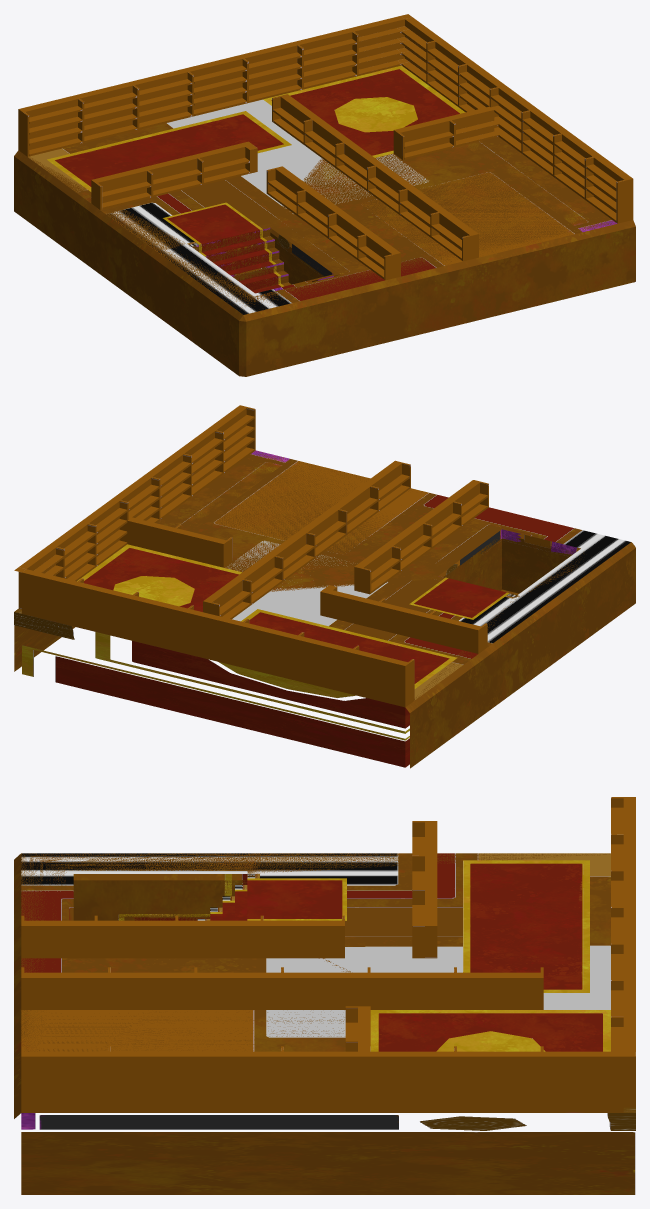
The model's file is lvl_5-cnk_0.obj.
3 views of the same model, one above another, from view 1: azimuth 30°, elevation 25°; view 2: azimuth 150°, elevation 25°; view 3: azimuth 270°, elevation 25° (orthographic). The views are drawn at different scales.
Parts seen in each view (by area): view 1: Cube.085, Cube.084, Cube.086, Cube.087, Plane.035, Cube.090, Plane.036, Cube.089, Plane.037, Cube.091, Cube.092; view 2: Cube.084, Cube.085, Cube.086, Cube.087, Cube.090, Plane.035, Cube.091, Cube.089, Plane.036, Cube.092, Plane.037; view 3: Cube.084, Cube.087, Cube.085, Cube.090, Plane.036, Cube.091, Plane.035, Cube.086, Plane.037, Cube.089, Cube.092.
Boxes of the visible parts, x1,y1,x2,y2 form: Cube.085: (14,123,635,376); Cube.084: (28,99,617,314); Cube.086: (18,16,404,156); Cube.087: (401,17,633,223); Plane.035: (263,65,465,157); Cube.090: (272,94,478,261); Plane.036: (47,111,291,191); Cube.089: (91,141,257,209); Plane.037: (163,202,283,293); Cube.091: (266,166,400,280); Cube.092: (393,106,498,159); Cube.084: (14,450,630,767); Cube.085: (15,451,635,768); Cube.086: (22,569,414,707); Cube.087: (18,405,255,609); Cube.090: (203,460,410,619); Plane.035: (77,544,241,611); Cube.091: (354,480,488,594); Cube.089: (320,585,487,653); Plane.036: (241,609,457,688); Cube.092: (127,517,232,567); Plane.037: (409,577,509,619); Cube.084: (21,853,635,1194); Cube.087: (21,1046,623,1112); Cube.085: (14,853,633,1118); Cube.090: (21,967,543,1009); Plane.036: (463,860,589,992); Cube.091: (21,915,344,958); Plane.035: (370,1010,610,1051); Cube.086: (611,797,635,1107); Plane.037: (210,878,346,920); Cube.089: (412,821,437,958); Cube.092: (345,1006,370,1051).
Size of the model in its own units: 100 by 28 by 100.
1 material, 1 textured.
